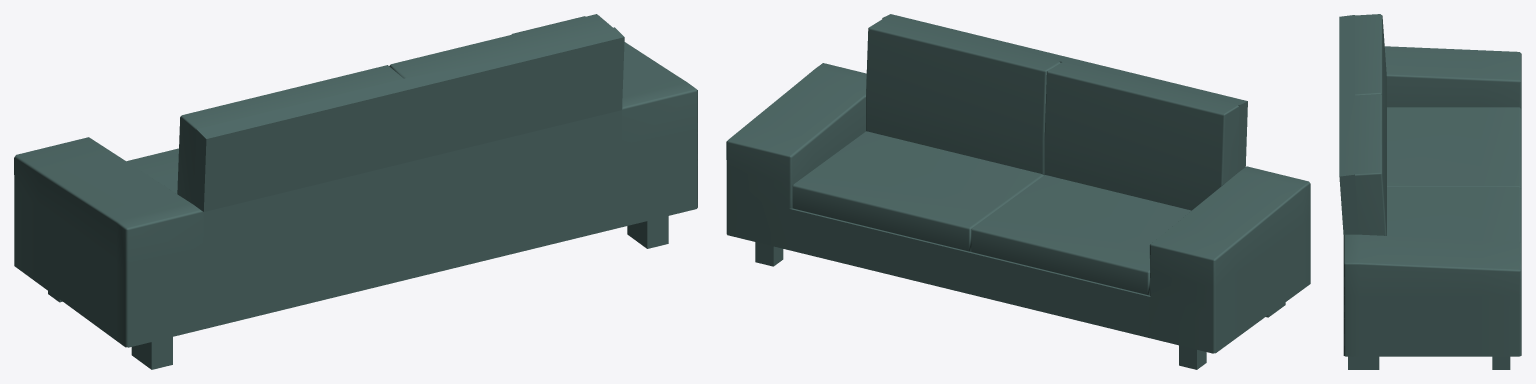
Rendered from sofa.fbx.
The picture shows the model from 3 angles, left to right: view 1: azimuth 30°, elevation 25°; view 2: azimuth 150°, elevation 25°; view 3: azimuth 270°, elevation 25°; orthographic projection. The views are drawn at different scales.
Visible parts, largest first — view 1: polySurface29; view 2: polySurface29; view 3: polySurface29.
Boxes of the visible parts, box(x1,y1,x2,y2) form: polySurface29: box(14, 14, 697, 369); polySurface29: box(726, 14, 1310, 369); polySurface29: box(1339, 14, 1521, 369).
Bounding box in the file's own units: 7.26 × 2.75 × 2.55.
